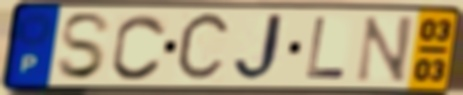C: (172, 8, 234, 87), (109, 12, 170, 83)
J: (231, 11, 292, 85)
L: (303, 16, 348, 82)
N: (352, 13, 417, 84)
S: (54, 11, 114, 83)
